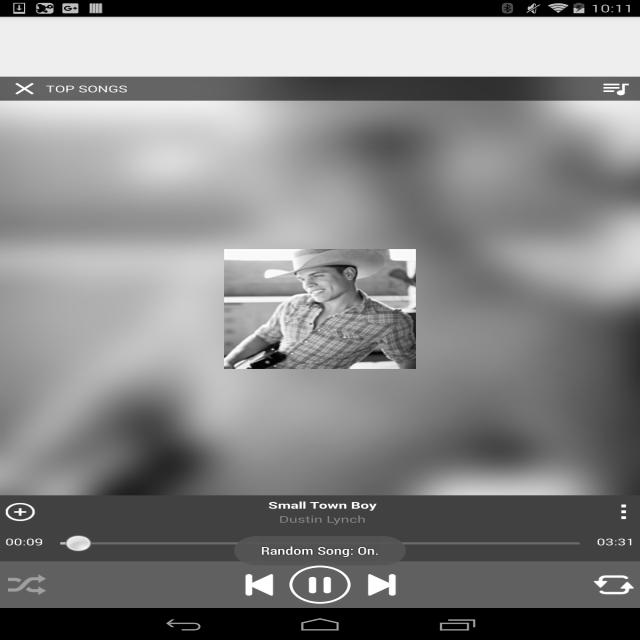ImageButton: (559, 157, 619, 194)
ImageView: (0, 77, 640, 608), (0, 44, 640, 230), (224, 249, 416, 369), (267, 37, 373, 103), (288, 564, 352, 604), (5, 571, 48, 598), (592, 571, 635, 598), (240, 573, 277, 596), (363, 573, 400, 596), (8, 78, 41, 98), (600, 78, 632, 98), (4, 502, 36, 522), (608, 502, 640, 522), (604, 174, 636, 190), (604, 268, 636, 284), (604, 296, 636, 312), (604, 378, 636, 394), (604, 406, 636, 422), (604, 366, 636, 382), (604, 460, 636, 476), (604, 448, 636, 464), (604, 542, 636, 558), (604, 570, 636, 586), (604, 596, 636, 612), (604, 324, 636, 339), (604, 351, 636, 366), (604, 488, 636, 503)
SeekBar: (43, 536, 597, 552)
TextView: (10, 194, 640, 208), (10, 220, 640, 233), (36, 512, 608, 526), (10, 208, 640, 220), (41, 82, 600, 95), (36, 499, 608, 511), (36, 489, 557, 502), (36, 176, 557, 188), (36, 270, 557, 282), (36, 298, 557, 310), (36, 326, 557, 338), (36, 352, 557, 364), (36, 380, 557, 392), (36, 408, 557, 420), (36, 368, 557, 380), (36, 462, 557, 474), (36, 450, 557, 462), (36, 544, 557, 556), (36, 572, 557, 584), (36, 598, 557, 610), (4, 169, 36, 196), (4, 263, 36, 290), (4, 318, 36, 345), (4, 345, 36, 372), (4, 400, 36, 427), (4, 482, 36, 509), (4, 564, 36, 591), (4, 591, 36, 618), (4, 291, 36, 317), (4, 373, 36, 399), (4, 361, 36, 387), (4, 455, 36, 481), (4, 443, 36, 469), (4, 537, 36, 563), (557, 298, 599, 310), (557, 544, 599, 556), (6, 535, 44, 548), (596, 535, 634, 548), (557, 177, 599, 188), (557, 271, 599, 282), (557, 353, 599, 364), (557, 381, 599, 392), (557, 368, 599, 379), (557, 462, 599, 473), (557, 451, 599, 462), (557, 599, 599, 610), (557, 326, 599, 336), (557, 408, 599, 418), (557, 490, 599, 500), (557, 572, 599, 582)
